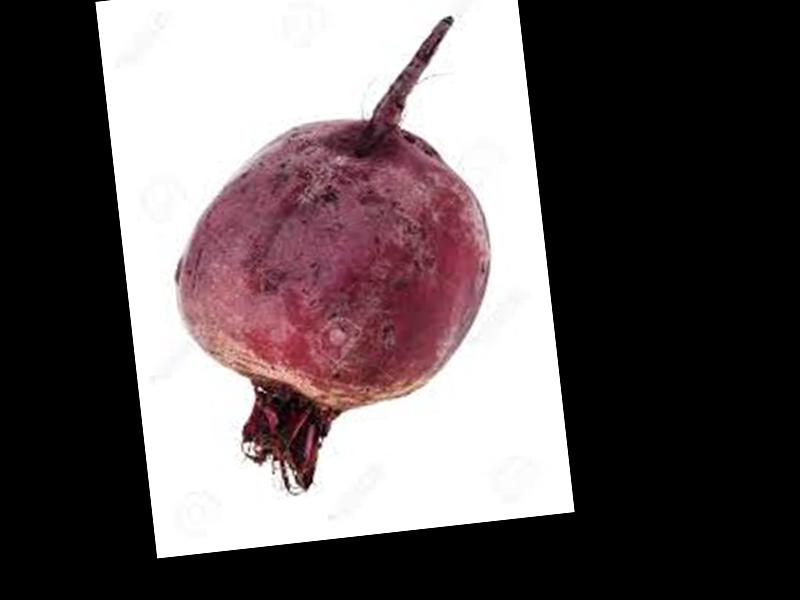Beet: (151, 15, 515, 504)
